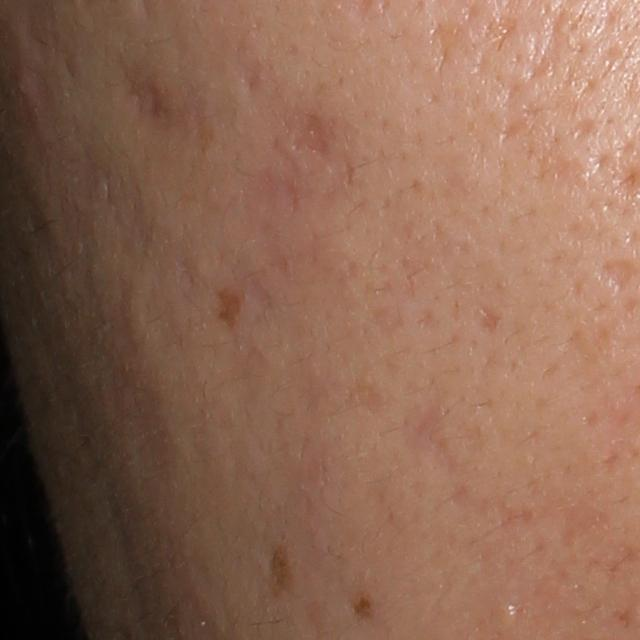atrophic_scar: (120, 63, 195, 132), (402, 393, 460, 475), (287, 103, 338, 167), (560, 497, 616, 545), (428, 21, 466, 87), (592, 253, 637, 295), (475, 307, 505, 330)
comedo: (489, 599, 520, 631)
melasma: (266, 541, 301, 599), (215, 284, 249, 329), (351, 592, 377, 621)
